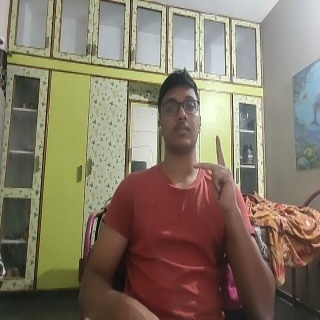Face: (157, 70, 203, 156)
Okay: (192, 132, 238, 211)
